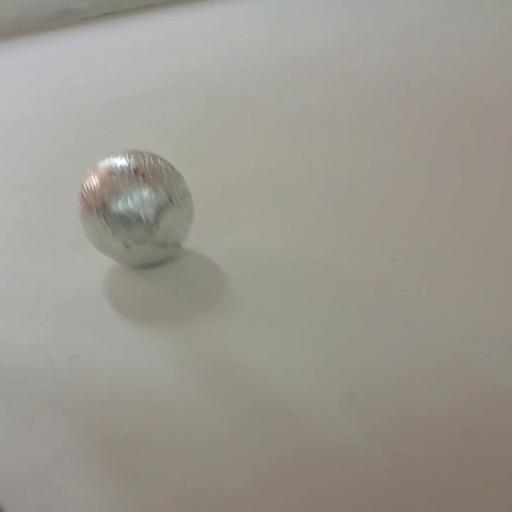alive: (75, 148, 198, 269)
